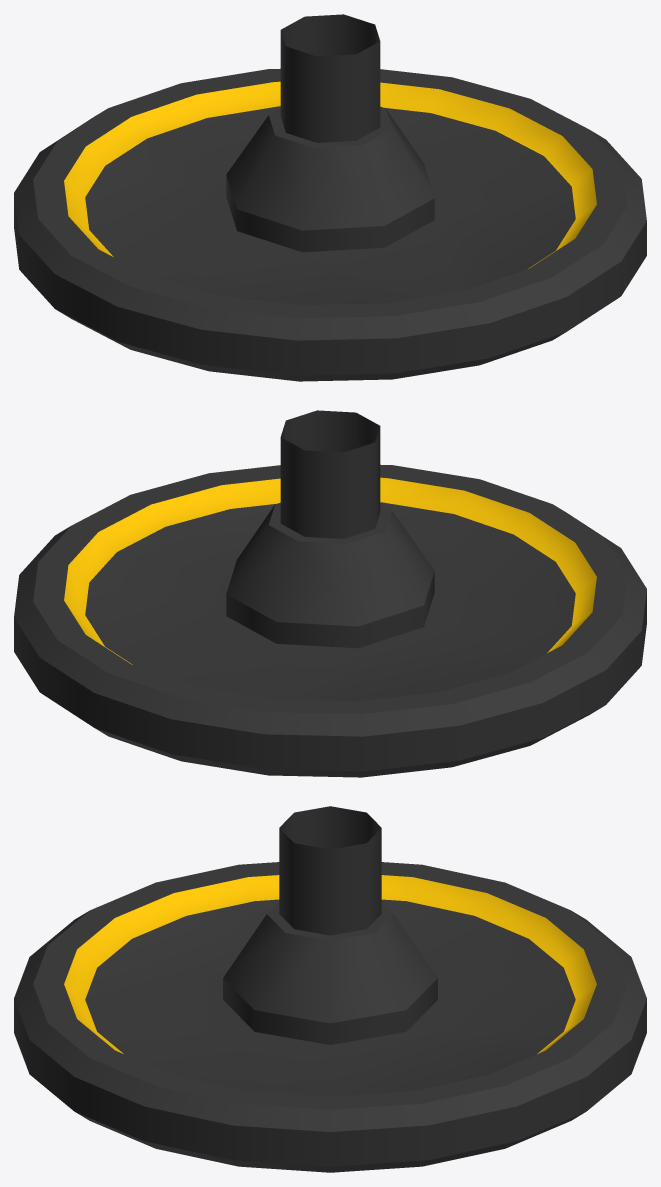
Rendered from Armchair_006.fbx.
The picture shows the model from 3 angles, top to bottom: view 1: azimuth 30°, elevation 25°; view 2: azimuth 150°, elevation 25°; view 3: azimuth 270°, elevation 25°; orthographic projection.
Visible parts, largest first — view 1: Armchair_006; view 2: Armchair_006; view 3: Armchair_006.
Boxes of the visible parts, <box> form: Armchair_006: <box>14,14,646,381</box>; Armchair_006: <box>14,410,646,777</box>; Armchair_006: <box>14,806,646,1172</box>.
Size of the model in its own units: 70.59 by 70.59 by 26.98.
